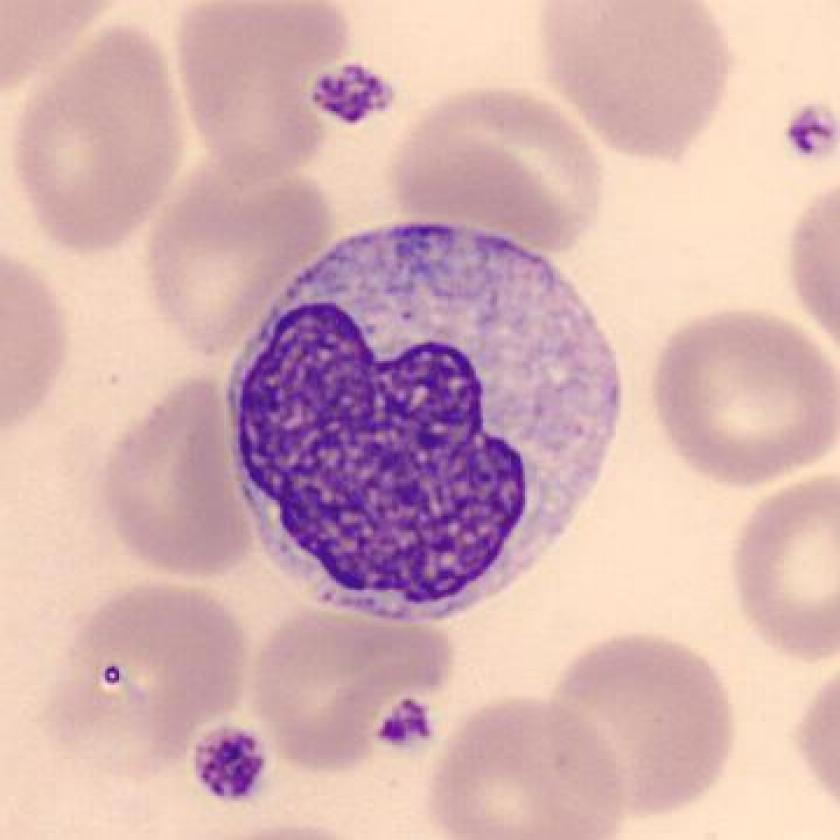monocyte: (216, 205, 643, 637)
